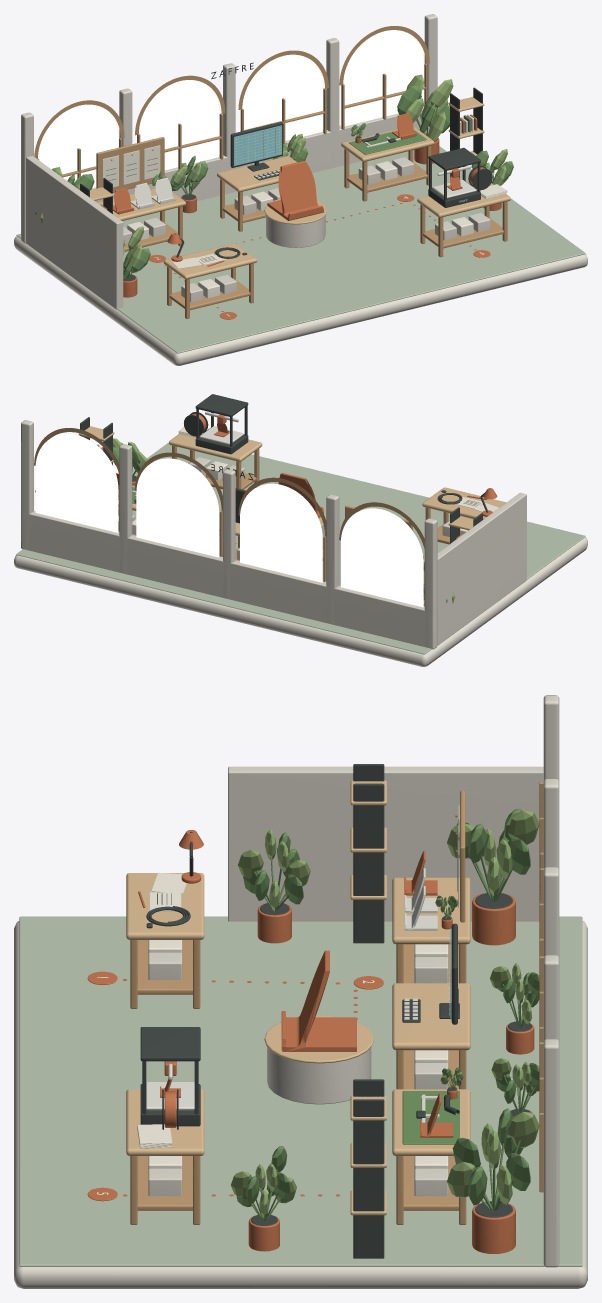
File: studio.glb
3 views of the same model, one above another, from view 1: azimuth 30°, elevation 25°; view 2: azimuth 150°, elevation 25°; view 3: azimuth 270°, elevation 25° (orthographic). The views are drawn at different scales.
Visible parts, largest first — view 1: Studio_Sage floor, Studio_Limestone, Studio_Daylight, Studio_Oak, Studio_Pale oak, Studio_Graphite, Studio_Leaves, Studio_Paper, Studio_Leaf tips, Studio_Terracotta, REFERENCE_PRODUCT_Phone holder prototype.003, Studio_Warm white (+1 smaller); view 2: Studio_Limestone, Studio_Daylight, Studio_Sage floor, Studio_Oak, Studio_Graphite, Studio_Pale oak, Studio_Paper, REFERENCE_PRODUCT_Phone holder prototype.003, Studio_Warm white, Studio_Terracotta, Studio_Leaves; view 3: Studio_Sage floor, Studio_Limestone, Studio_Pale oak, Studio_Graphite, Studio_Oak, Studio_Leaves, Studio_Leaf tips, Studio_Terracotta, Studio_Paper, REFERENCE_PRODUCT_Phone holder prototype.003, Studio_Warm white.
Boxes of the visible parts, <box> form: Studio_Sage floor: <box>16,146,585,353</box>; Studio_Limestone: <box>14,14,587,365</box>; Studio_Daylight: <box>38,30,423,187</box>; Studio_Oak: <box>34,26,507,318</box>; Studio_Pale oak: <box>90,97,510,279</box>; Studio_Graphite: <box>80,62,492,281</box>; Studio_Leaves: <box>35,85,513,280</box>; Studio_Paper: <box>102,114,507,316</box>; Studio_Leaf tips: <box>40,74,508,272</box>; Studio_Terracotta: <box>100,113,501,319</box>; REFERENCE_PRODUCT_Phone holder prototype.003: <box>267,160,323,220</box>; Studio_Warm white: <box>130,117,476,209</box>; Studio_Limestone: <box>14,420,587,666</box>; Studio_Daylight: <box>35,433,423,607</box>; Studio_Sage floor: <box>16,442,585,654</box>; Studio_Oak: <box>34,428,449,605</box>; Studio_Graphite: <box>80,394,489,543</box>; Studio_Pale oak: <box>78,426,506,561</box>; Studio_Paper: <box>102,426,498,534</box>; REFERENCE_PRODUCT_Phone holder prototype.003: <box>278,472,323,518</box>; Studio_Warm white: <box>100,411,243,497</box>; Studio_Terracotta: <box>101,413,497,558</box>; Studio_Leaves: <box>97,442,447,605</box>; Studio_Sage floor: <box>19,916,582,1266</box>; Studio_Limestone: <box>14,695,587,1288</box>; Studio_Pale oak: <box>126,780,470,1215</box>; Studio_Graphite: <box>140,764,540,1258</box>; Studio_Oak: <box>130,782,544,1224</box>; Studio_Leaves: <box>236,808,539,1220</box>; Studio_Leaf tips: <box>230,810,539,1218</box>; Studio_Terracotta: <box>87,815,534,1253</box>; Studio_Paper: <box>97,805,459,1194</box>; REFERENCE_PRODUCT_Phone holder prototype.003: <box>281,950,356,1051</box>; Studio_Warm white: <box>146,868,449,1122</box>.
Size of the model in its own units: 16.05 by 5.3 by 11.
